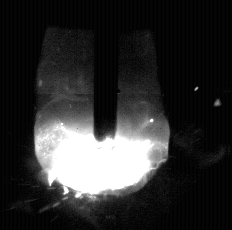arame: (94, 0, 118, 141)
poca: (34, 0, 170, 230)
